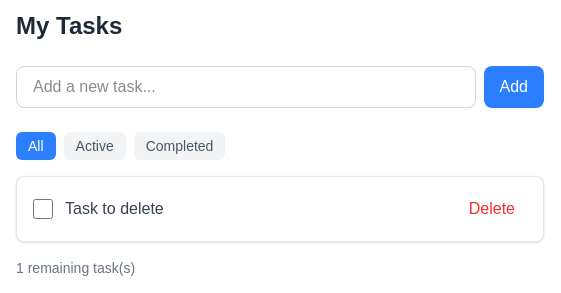
Test: TODOApp › Deleting tasks › deletes a task when Delete button is clicked
Expected: the text "Task to delete" is shown, [65,200,164,217]
Click the button "Delete": (492, 209) [457,193,527,225]
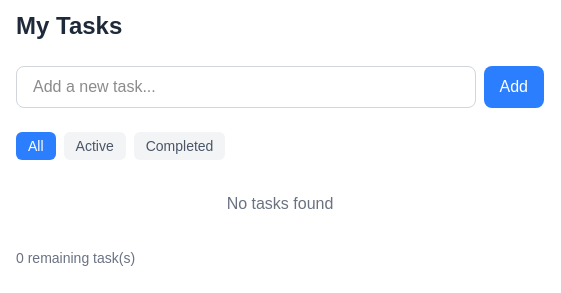
Now the text "Task to delete" is gone
